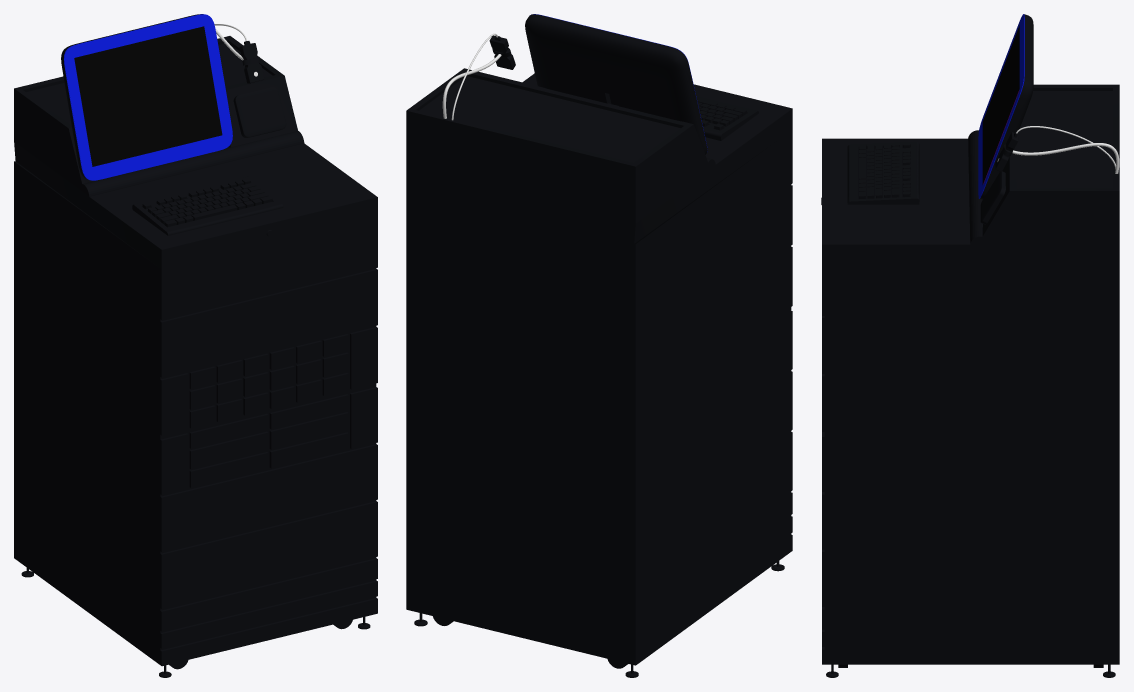
Rendered from PyxisMedstation3689.fbx.
The picture shows the model from 3 angles, left to right: view 1: azimuth 30°, elevation 25°; view 2: azimuth 150°, elevation 25°; view 3: azimuth 270°, elevation 25°; orthographic projection. The views are drawn at different scales.
Parts seen in each view (by area): view 1: Joined Solid Geometry [11105], NewTop, NewTop.001; view 2: Joined Solid Geometry [11105], NewTop, NewTop.001; view 3: Joined Solid Geometry [11105], NewTop, NewTop.001, BezierCurve.001.
Part boxes in pixels (left/top/right/bottom): Joined Solid Geometry [11105]: left=14, top=161, right=377, bottom=677; NewTop: left=14, top=14, right=377, bottom=269; NewTop.001: left=132, top=176, right=283, bottom=235; Joined Solid Geometry [11105]: left=406, top=129, right=792, bottom=677; NewTop: left=406, top=14, right=792, bottom=243; NewTop.001: left=696, top=96, right=758, bottom=140; Joined Solid Geometry [11105]: left=822, top=264, right=1119, bottom=677; NewTop: left=821, top=14, right=1119, bottom=264; NewTop.001: left=847, top=142, right=919, bottom=204; BezierCurve.001: left=1012, top=143, right=1119, bottom=173.
Bounding box in the file's own units: 57.91 × 143 × 68.75.
